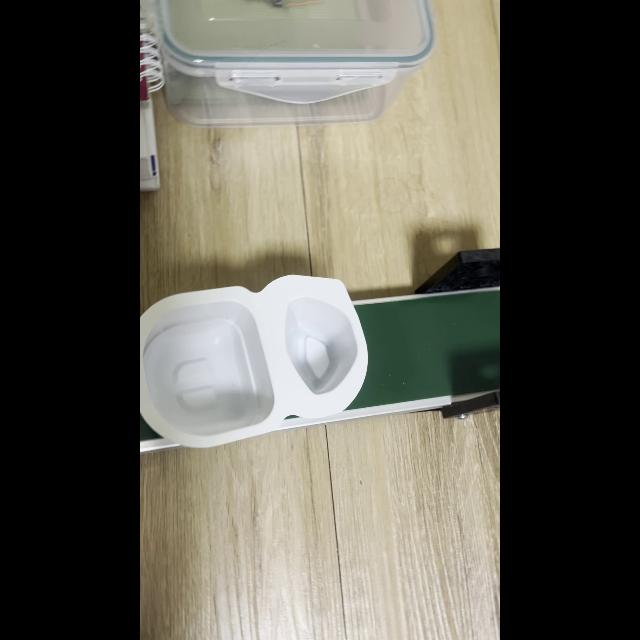clean: (141, 276, 367, 446)
